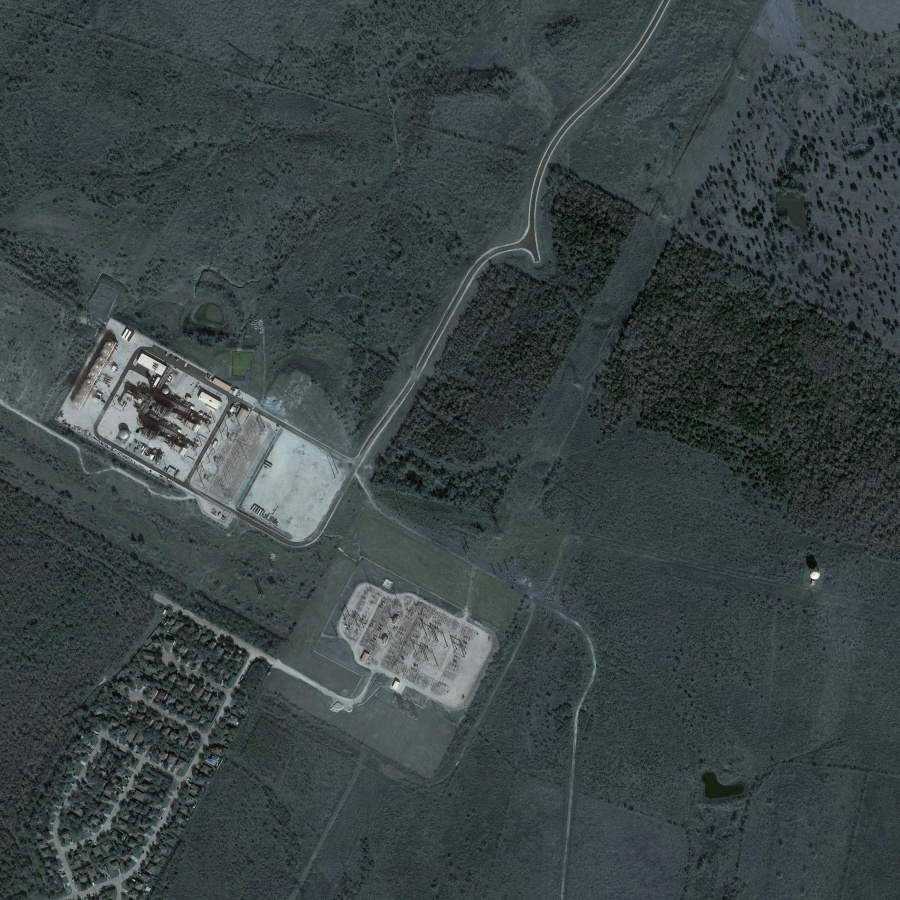PowerPlant: (61, 321, 271, 511), (335, 567, 482, 704)
